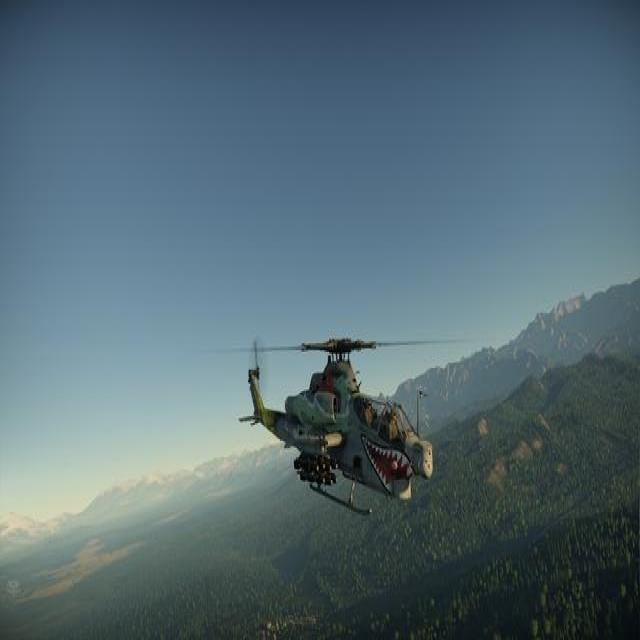MIL_HELO: (201, 329, 474, 517)
